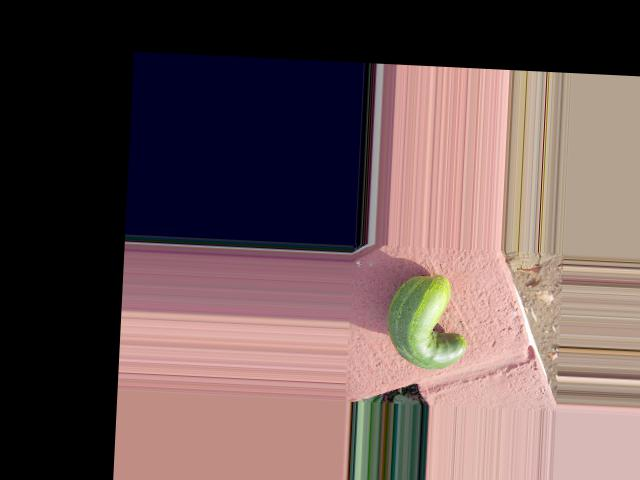cucumber: (386, 272, 471, 370)
